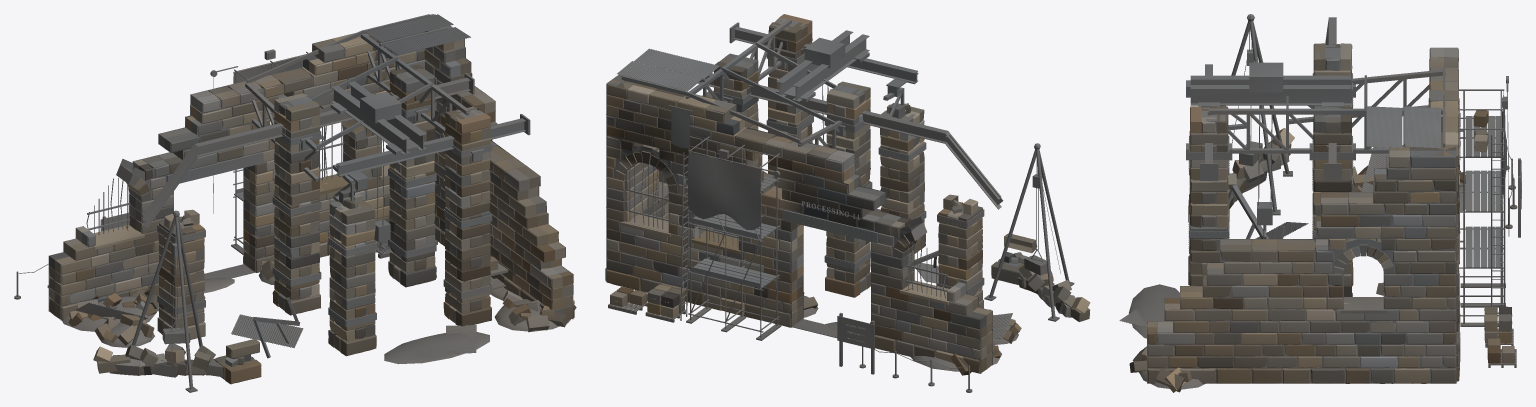
File: Processing11_LOD0.glb
The picture shows the model from 3 angles, left to right: view 1: azimuth 30°, elevation 25°; view 2: azimuth 150°, elevation 25°; view 3: azimuth 270°, elevation 25°; orthographic projection. The views are drawn at different scales.
Visible parts, largest first — view 1: Processing11_Masonry_LOD0, Processing11_Metal_LOD0, Processing11_Rubble_LOD0, Processing11_Roof_LOD0, Processing11_Sand_LOD0, Processing11_Canvas_LOD0; view 2: Processing11_Masonry_LOD0, Processing11_Metal_LOD0, Processing11_Roof_LOD0, Processing11_Canvas_LOD0, Processing11_Rubble_LOD0, Processing11_Sand_LOD0; view 3: Processing11_Masonry_LOD0, Processing11_Metal_LOD0, Processing11_Roof_LOD0, Processing11_Rubble_LOD0, Processing11_Sand_LOD0, Processing11_Hardware_LOD0.
Part boxes in pixels (<box>): Processing11_Masonry_LOD0: <box>48,14,574,384</box>; Processing11_Metal_LOD0: <box>14,14,530,392</box>; Processing11_Rubble_LOD0: <box>68,193,576,377</box>; Processing11_Roof_LOD0: <box>75,14,508,353</box>; Processing11_Sand_LOD0: <box>62,249,570,364</box>; Processing11_Canvas_LOD0: <box>233,54,306,116</box>; Processing11_Masonry_LOD0: <box>605,14,1037,373</box>; Processing11_Metal_LOD0: <box>621,19,1074,392</box>; Processing11_Roof_LOD0: <box>608,48,1012,374</box>; Processing11_Canvas_LOD0: <box>671,107,760,229</box>; Processing11_Rubble_LOD0: <box>610,103,1090,375</box>; Processing11_Sand_LOD0: <box>708,209,1018,371</box>; Processing11_Masonry_LOD0: <box>1147,43,1460,383</box>; Processing11_Metal_LOD0: <box>1186,14,1517,323</box>; Processing11_Roof_LOD0: <box>1119,106,1521,367</box>; Processing11_Rubble_LOD0: <box>1129,110,1514,392</box>; Processing11_Sand_LOD0: <box>1129,182,1465,389</box>; Processing11_Hardware_LOD0: <box>1188,76,1508,321</box>.
Size of the model in its own units: 17.98 by 8.68 by 13.03.
